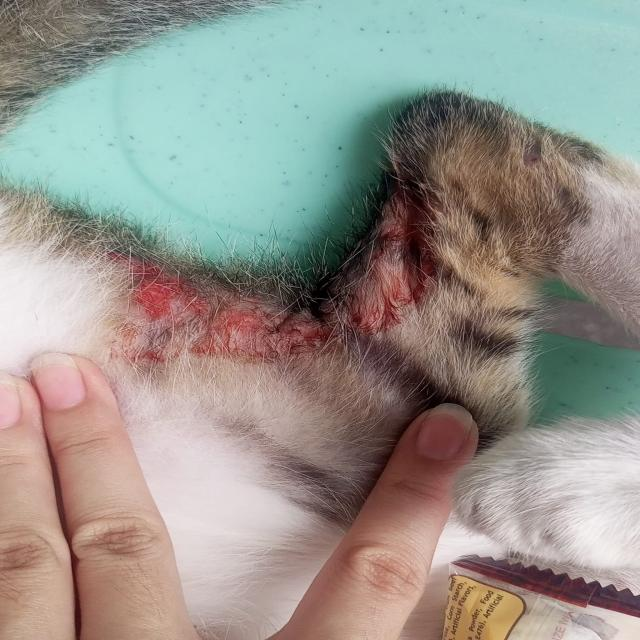Ringworm: (129, 258, 236, 351), (347, 214, 447, 308), (260, 295, 330, 358)
